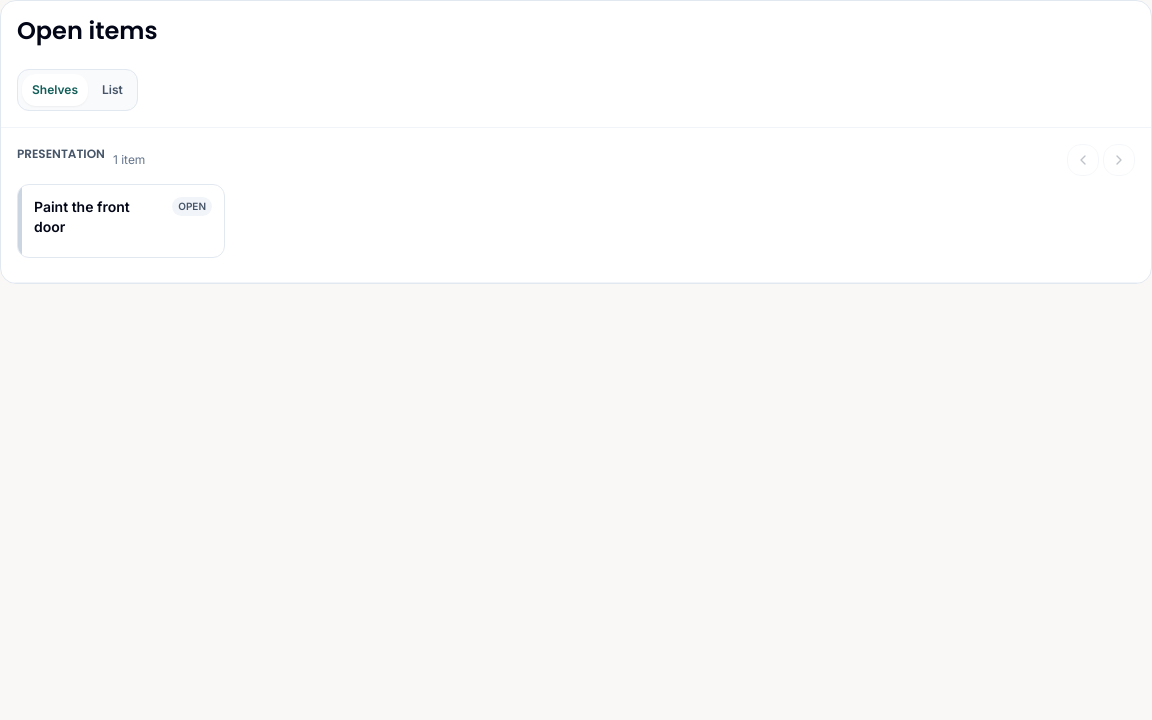
Test: as shelves, a card opens the live item in a sheet with its decision, and sending it closes the sheet
Click the button "Paint the front door OPEN". click: (121, 221)
box: [17,184,225,258]
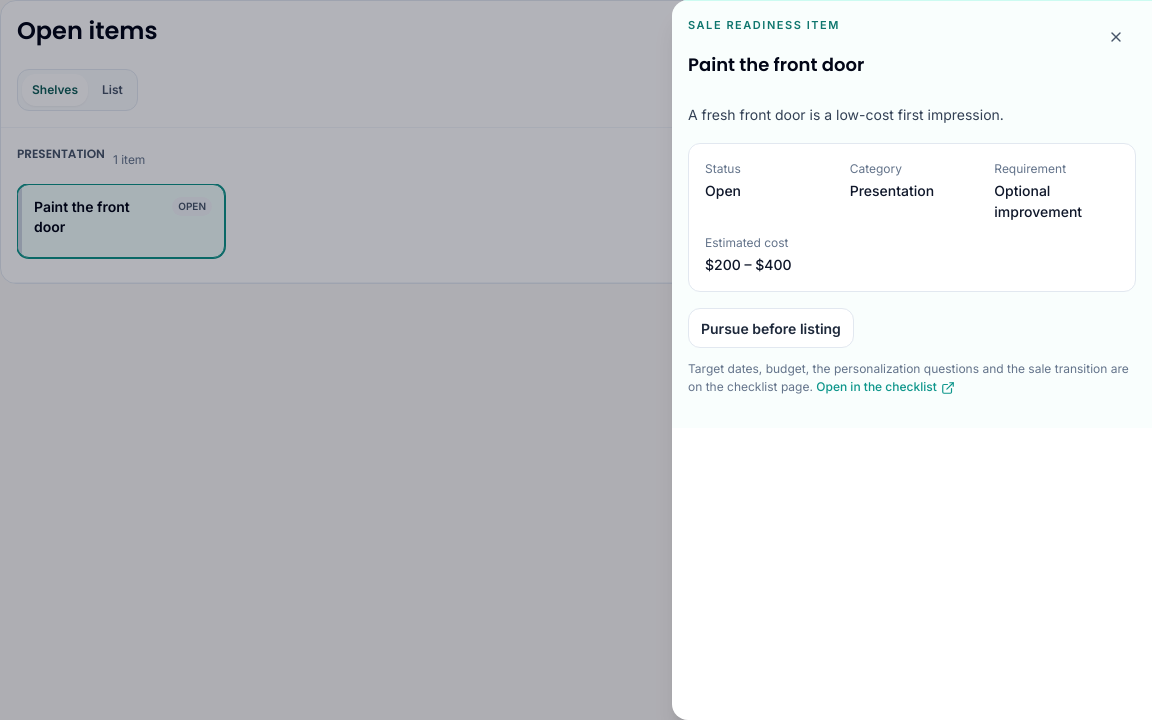
expect the dialog named "Item detail: Paint the front door" shows "A fresh front door is a low-cost first impression.": met, box [688,106,1004,123]
Click the button "Pursue before listing". click: (771, 328)
box: [688,308,854,348]
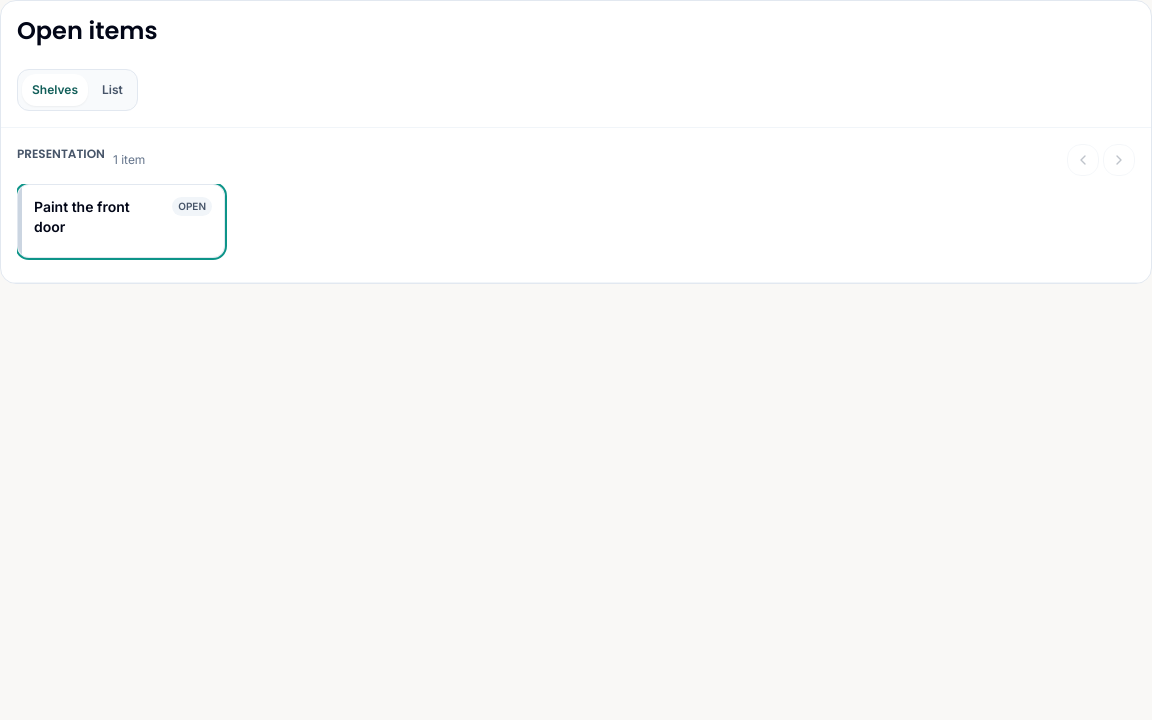
expect the dialog is gone: met
